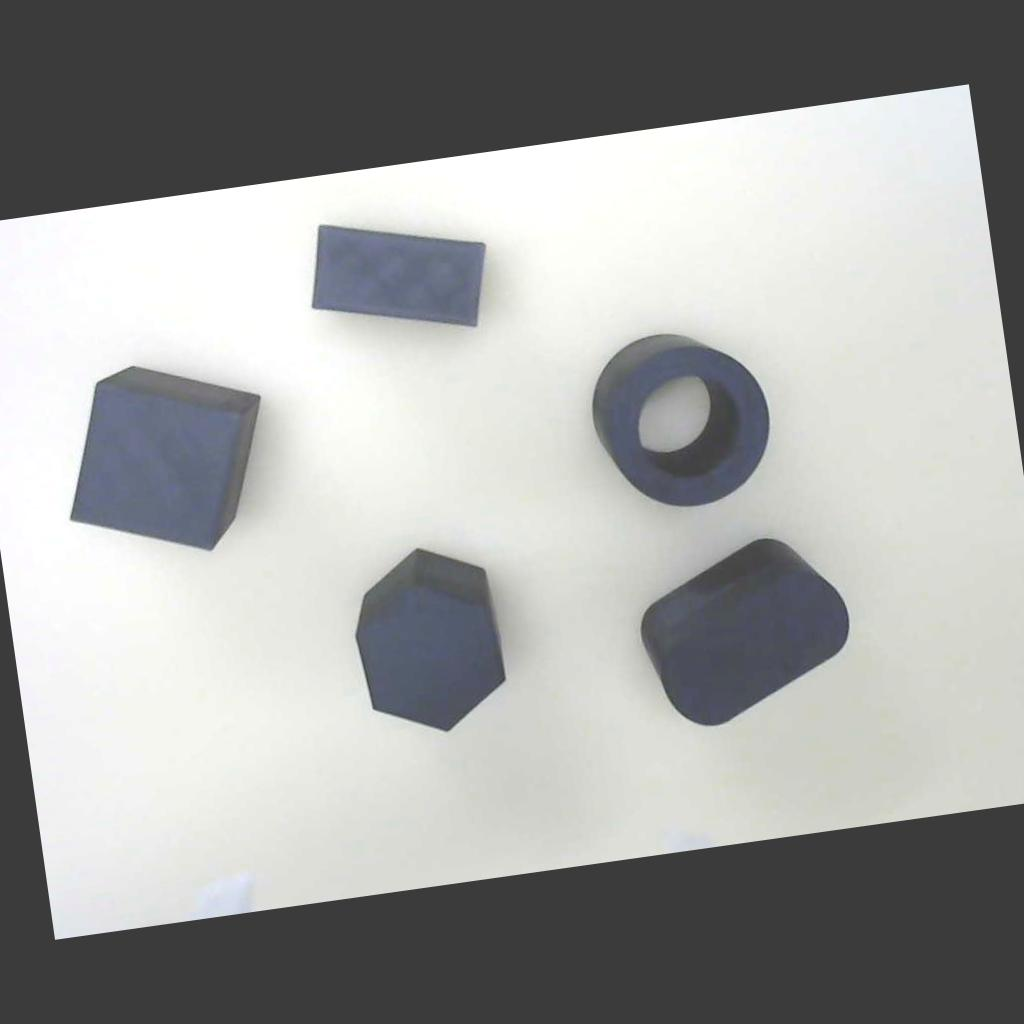hexagon: (316, 523, 537, 762)
oval: (609, 504, 879, 754)
rectangle: (296, 213, 499, 338)
ring: (565, 314, 795, 521)
square: (37, 333, 297, 583)
